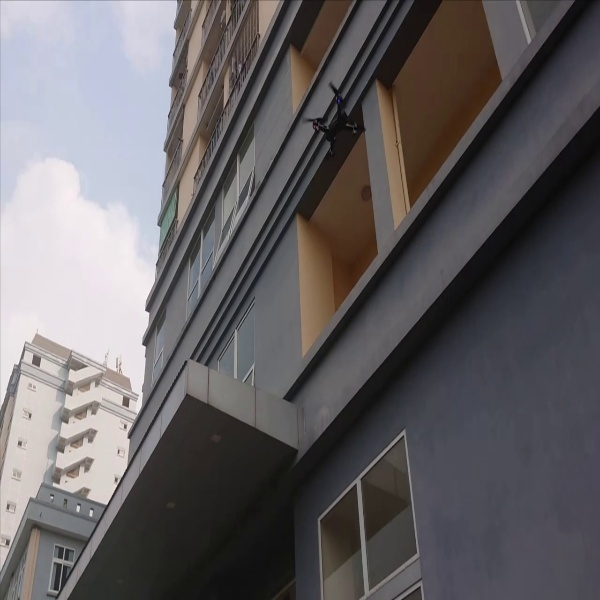drone: (300, 77, 372, 160)
